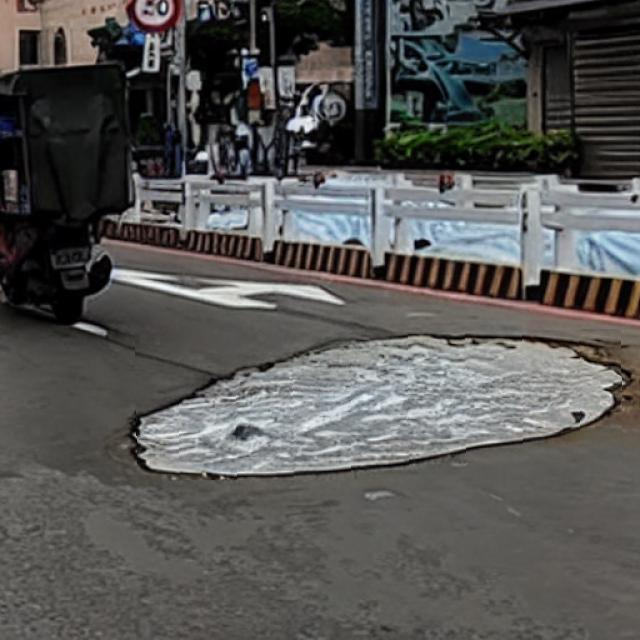puddle: (136, 332, 624, 480)
